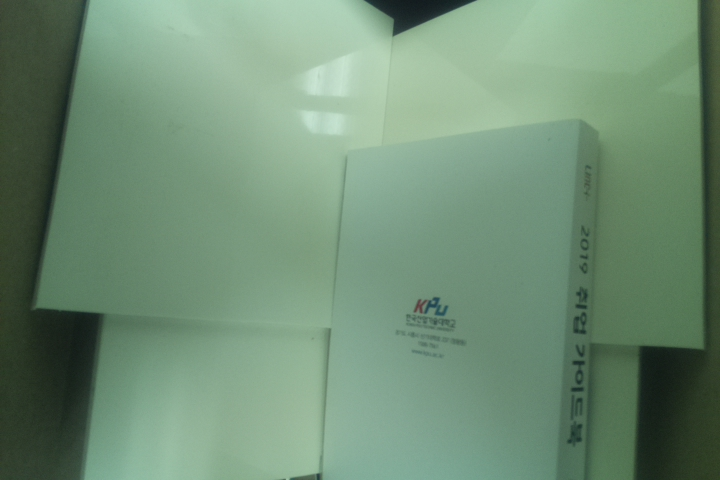book: (316, 117, 609, 480)
